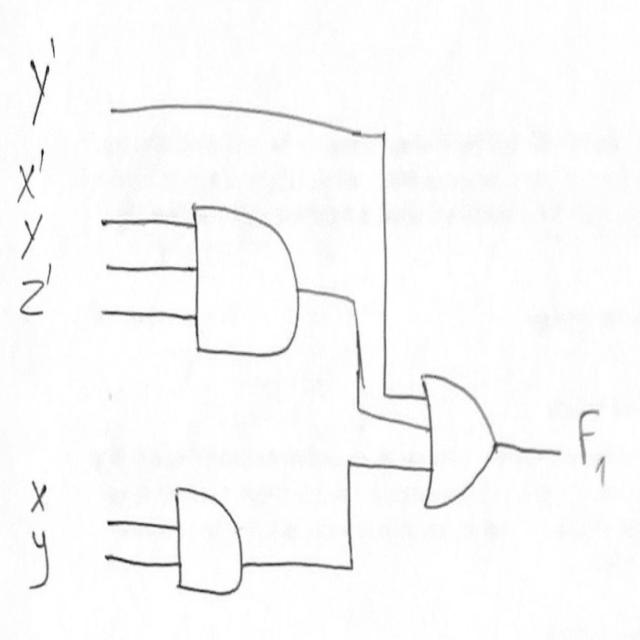AND: (188, 186, 304, 392), (167, 471, 253, 620)
OR: (416, 360, 504, 534)
